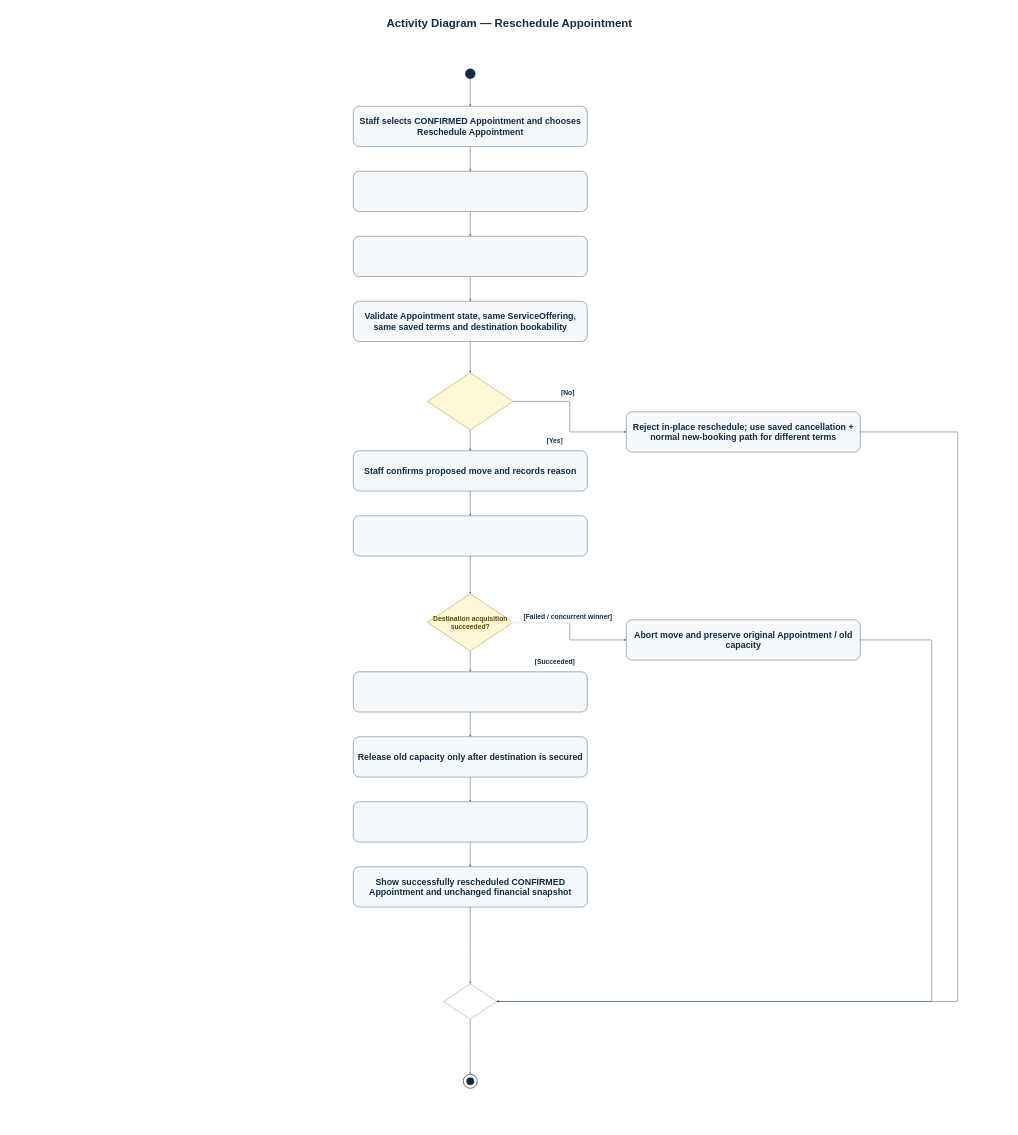
Some shapes in this 1018 by 1135 pixel diagram are drawn without their labels. Each missing label, with the centre of its shape:
"Appointment still CONFIRMED and destination uses same ServiceOffering / terms?" goes at point 470,401.
"Atomically secure valid destination capacity first" goes at point 470,536.
"Display current booking snapshot / history and permitted destination context" goes at point 470,191.
"Record previous/new scheduling data, actor, reason and history" goes at point 470,822.
"Staff selects agreed new day / group / session" goes at point 470,256.
"Update scheduling/group details while Appointment remains CONFIRMED" goes at point 470,692.
